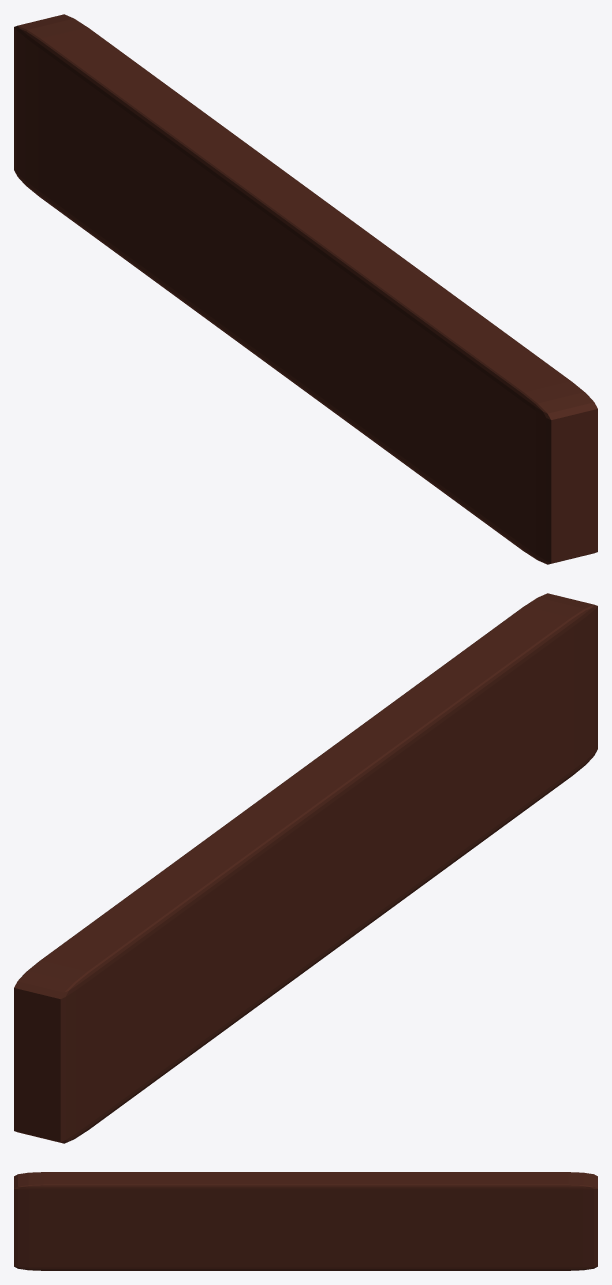
File: Plank.fbx
The picture shows the model from 3 angles, top to bottom: view 1: azimuth 30°, elevation 25°; view 2: azimuth 150°, elevation 25°; view 3: azimuth 270°, elevation 25°; orthographic projection. The views are drawn at different scales.
Visible parts, largest first — view 1: BasicPlank.001; view 2: BasicPlank.001; view 3: BasicPlank.001.
Part boxes in pixels (x1,y1,x2,y2): BasicPlank.001: (14, 14, 597, 564); BasicPlank.001: (14, 593, 597, 1143); BasicPlank.001: (14, 1172, 597, 1270).
Size of the model in its own units: 0.0594 by 0.00332 by 0.0097.
